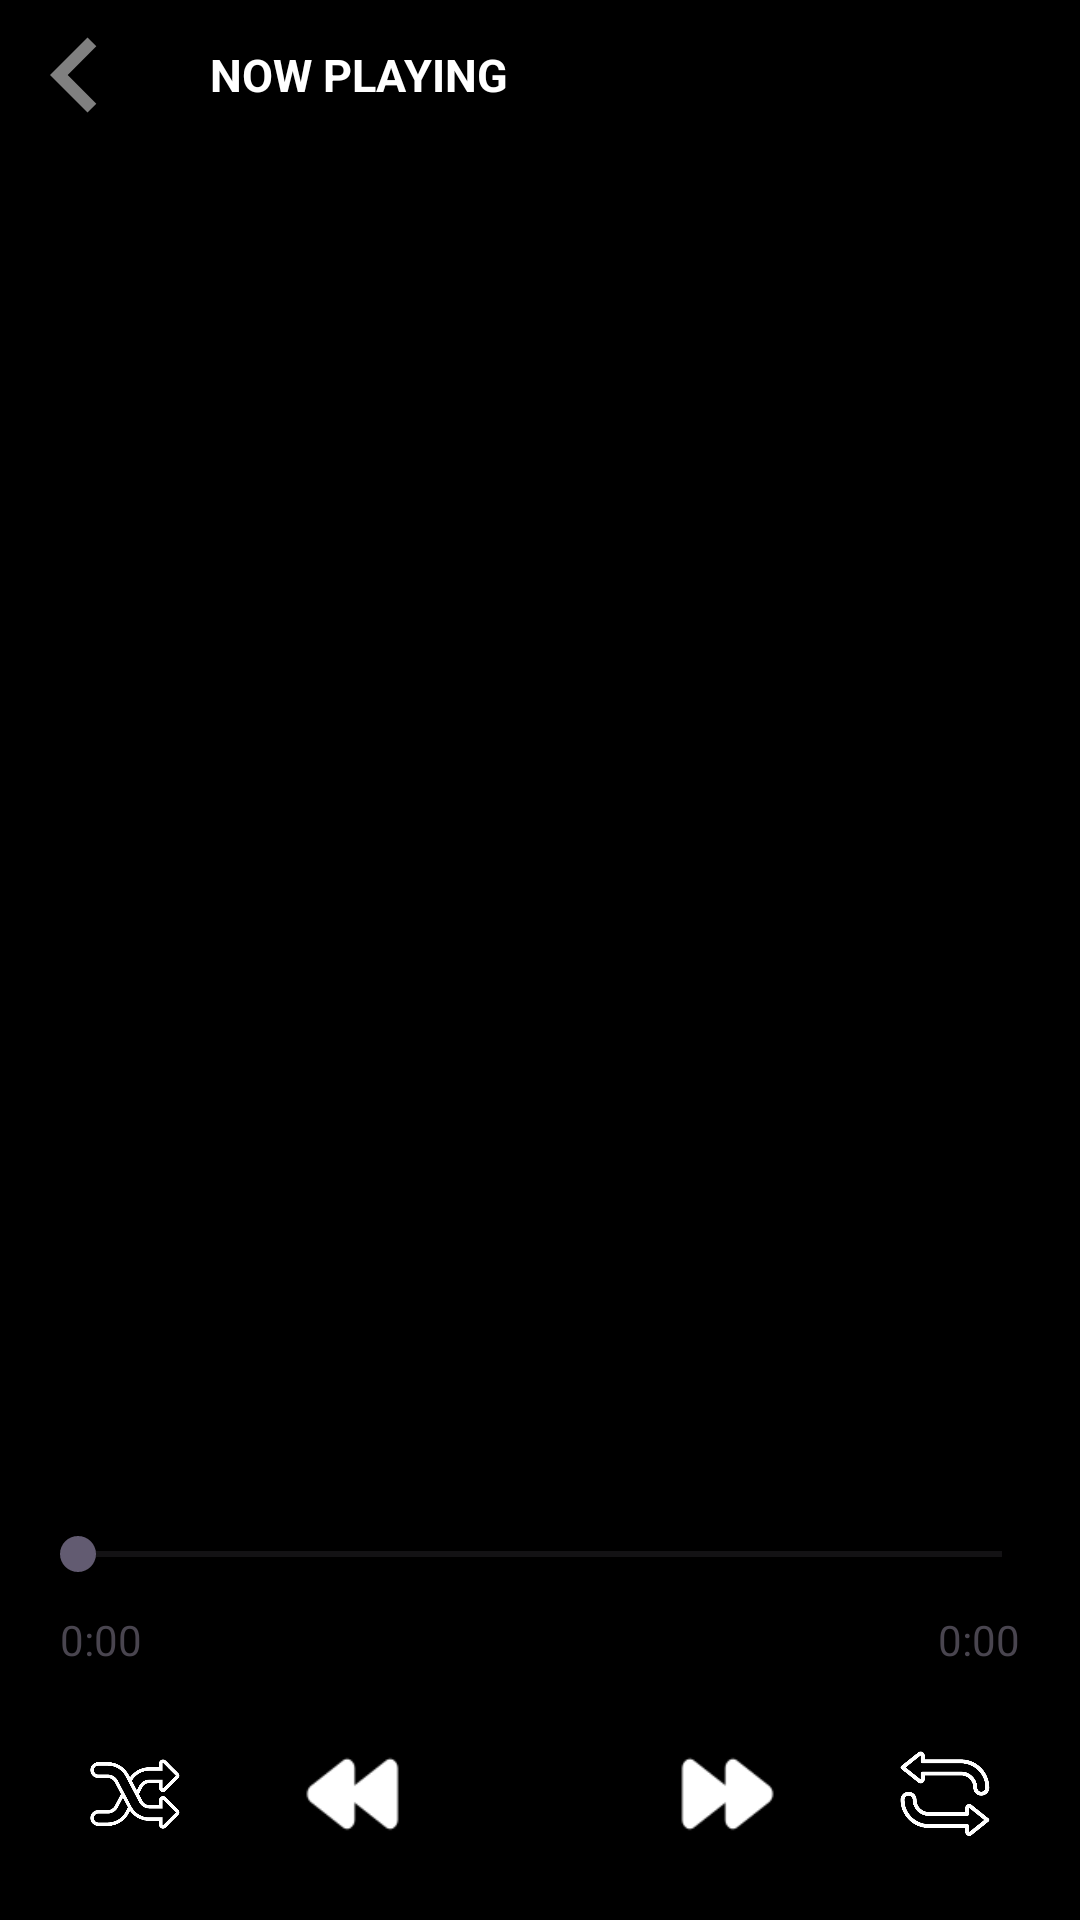

Screen size 1080px x 1920px. Icon name, then its center in pixels as (x=x, y=y):
next: (x=727, y=1794)
previous: (x=352, y=1794)
repeat: (x=945, y=1793)
shuffle: (x=135, y=1794)
